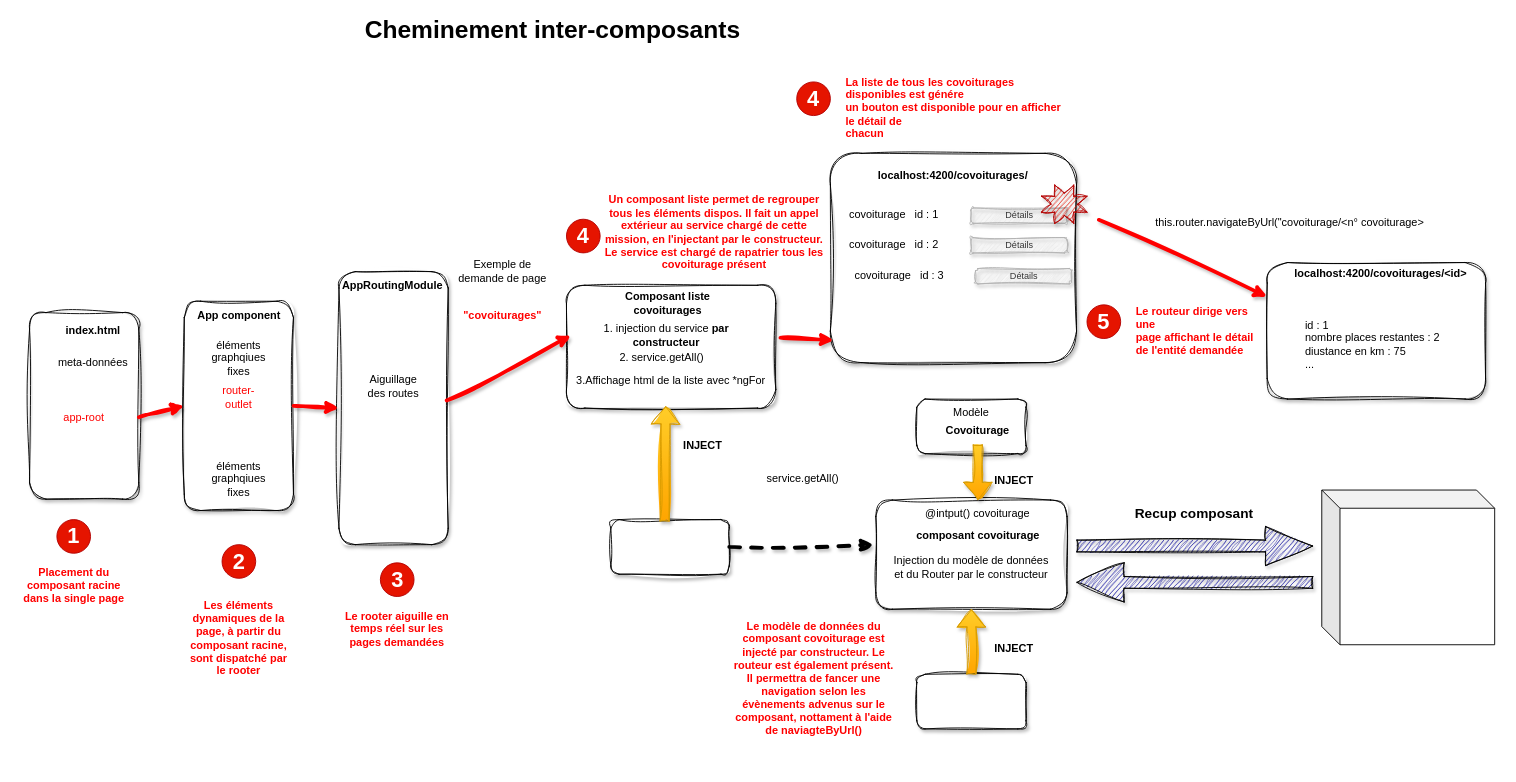
This 1516x782 diagram has some shape labels left out. Here are the shapes that lost their labels. From the top down, the centre of each, then its label:
At point 670,548: "CovoiturageService".
At point 1408,567: "serveur back-end, base de doonées, fichier, json-server simulation...".
At point 971,702: "Router".
